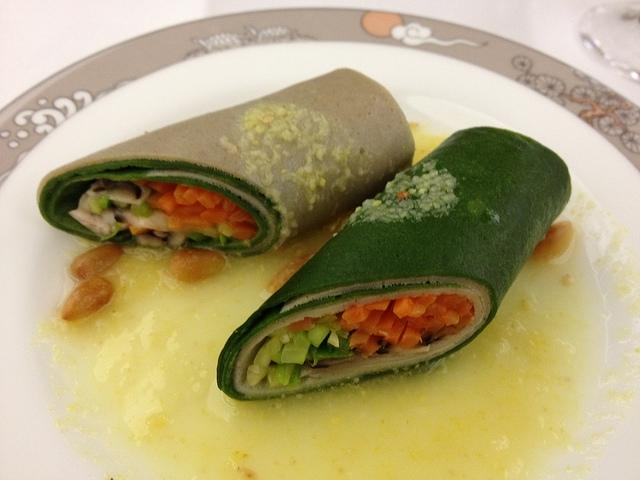carrot: (200, 199, 242, 224), (372, 299, 398, 337), (382, 315, 411, 347), (356, 310, 385, 336), (355, 334, 385, 359), (172, 200, 206, 220), (342, 304, 374, 324), (158, 190, 183, 215), (168, 216, 214, 228), (335, 311, 361, 332), (422, 300, 447, 320), (393, 296, 414, 318), (288, 317, 316, 332), (452, 298, 473, 318), (146, 181, 178, 194), (440, 307, 460, 327), (228, 206, 252, 222), (408, 297, 427, 317), (197, 189, 216, 209), (350, 330, 370, 348), (426, 316, 445, 334), (174, 184, 191, 204), (129, 224, 155, 236), (362, 300, 392, 310), (228, 220, 258, 230), (232, 227, 255, 240), (416, 294, 437, 306), (420, 328, 433, 340), (130, 179, 149, 187)
lettuce: (311, 331, 354, 366), (212, 238, 220, 244)
